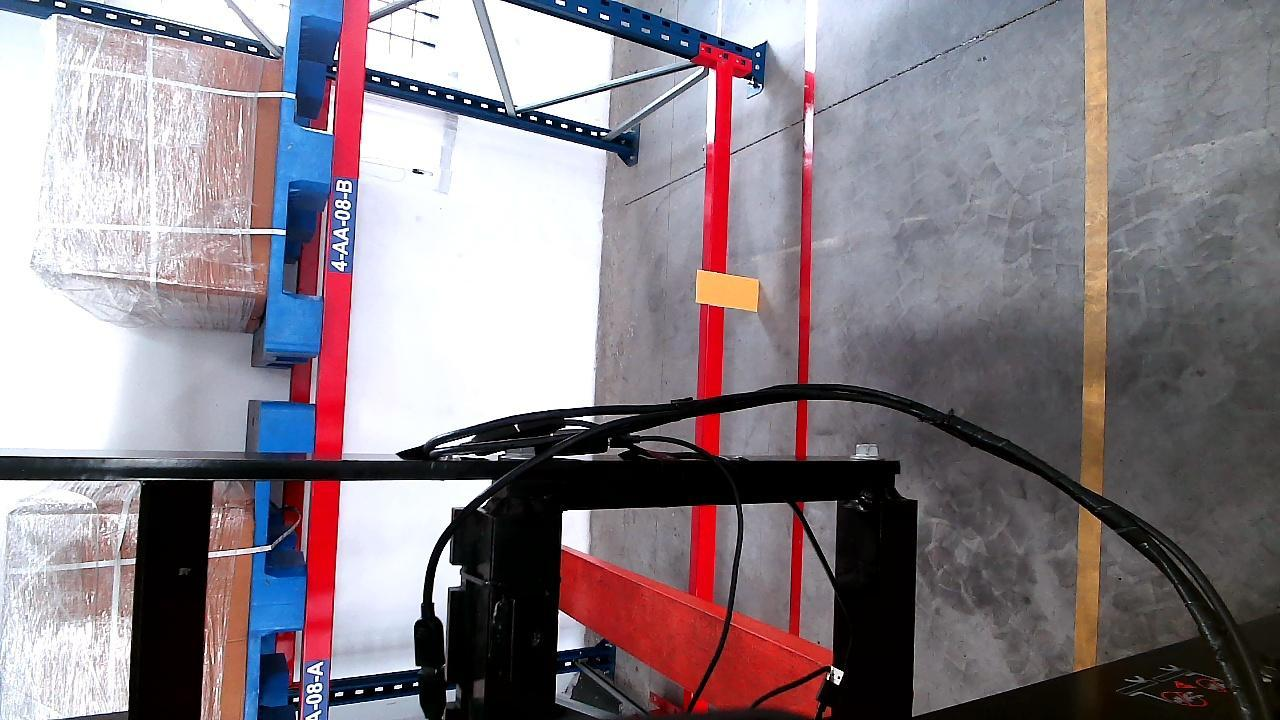red_line: (790, 0, 818, 634)
